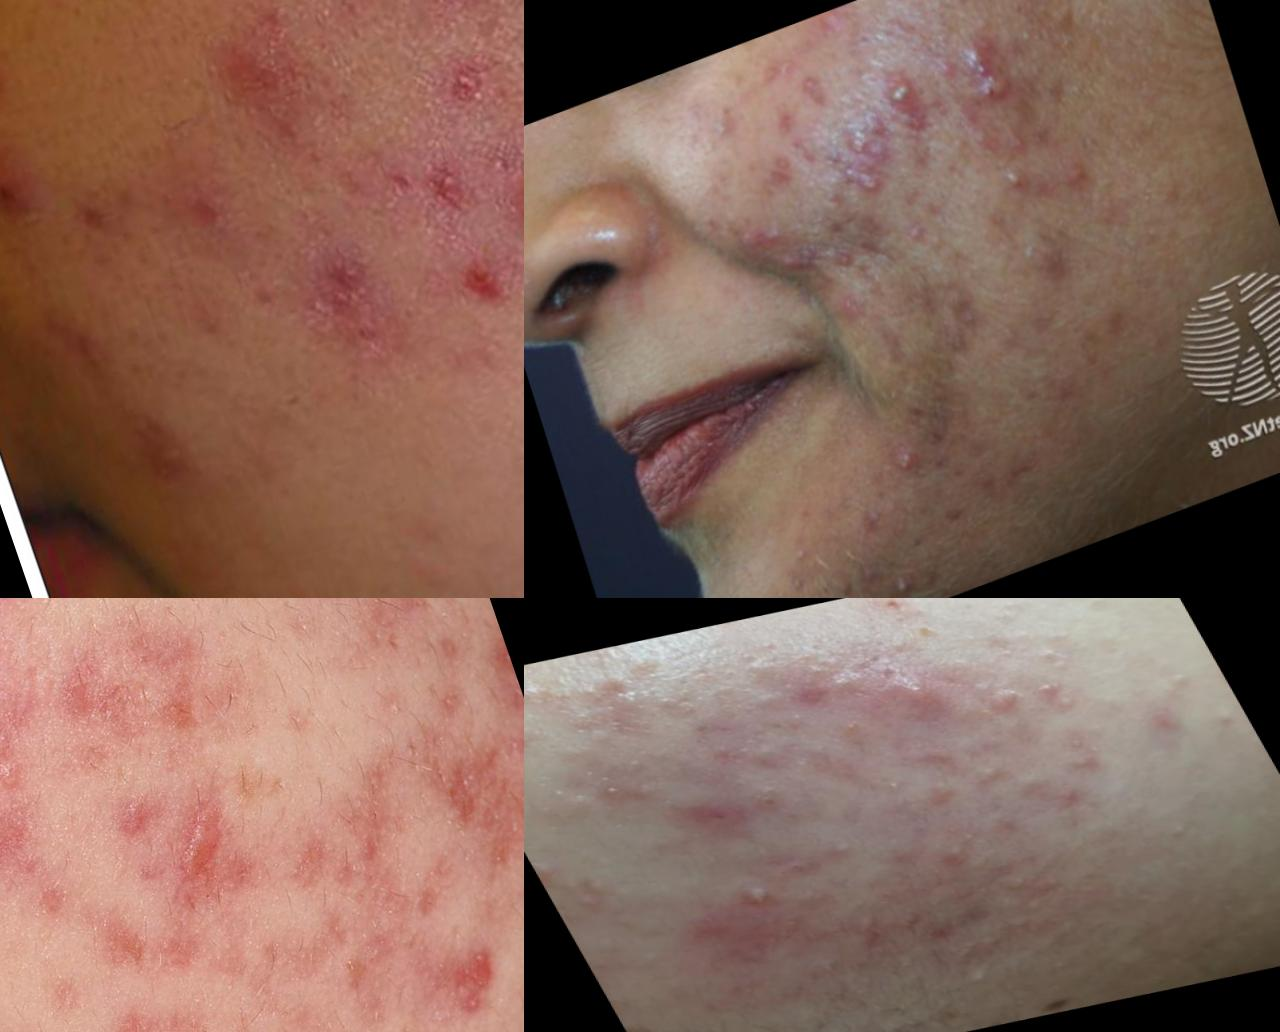acne_scars: (37, 278, 212, 536), (398, 716, 525, 896), (306, 759, 420, 891), (418, 926, 516, 1032)
blackhead: (768, 852, 824, 890)
cystic: (483, 107, 525, 294)
keloid: (145, 770, 276, 922)
papular: (863, 663, 968, 741), (1040, 718, 1125, 774), (674, 793, 753, 842), (754, 136, 813, 198), (847, 489, 902, 545), (782, 61, 836, 119), (989, 156, 1038, 210), (816, 238, 866, 287), (1051, 147, 1100, 196), (954, 759, 1022, 794), (1131, 703, 1194, 740), (1036, 776, 1100, 811)
purulent: (715, 196, 798, 275), (708, 873, 777, 919), (1, 35, 33, 124), (881, 438, 931, 487), (877, 70, 918, 125), (866, 569, 916, 599), (778, 242, 812, 284)
sebo-crystan-conglo: (826, 110, 906, 207), (958, 31, 1022, 133), (1, 127, 53, 249), (971, 677, 1025, 718)
whitehead: (864, 606, 966, 659), (561, 874, 636, 920), (1020, 671, 1086, 720), (645, 686, 712, 727), (869, 941, 929, 985), (1149, 664, 1211, 704), (1029, 638, 1089, 678), (863, 769, 927, 805), (949, 960, 1008, 996), (746, 683, 799, 720), (1066, 599, 1131, 628), (525, 684, 560, 709)
